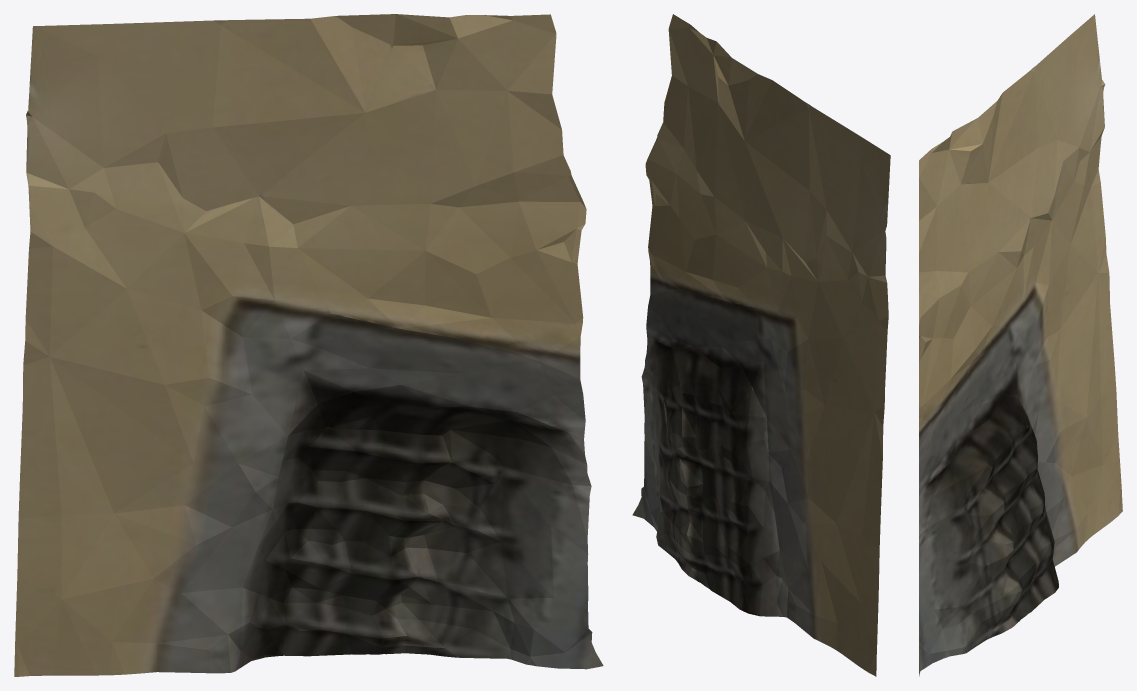
The picture shows the model from 3 angles, left to right: view 1: azimuth 30°, elevation 25°; view 2: azimuth 150°, elevation 25°; view 3: azimuth 270°, elevation 25°; orthographic projection. The views are drawn at different scales.
Size of the model in its own units: 1.2 by 1.67 by 0.6219.
2 materials, 2 textured.
